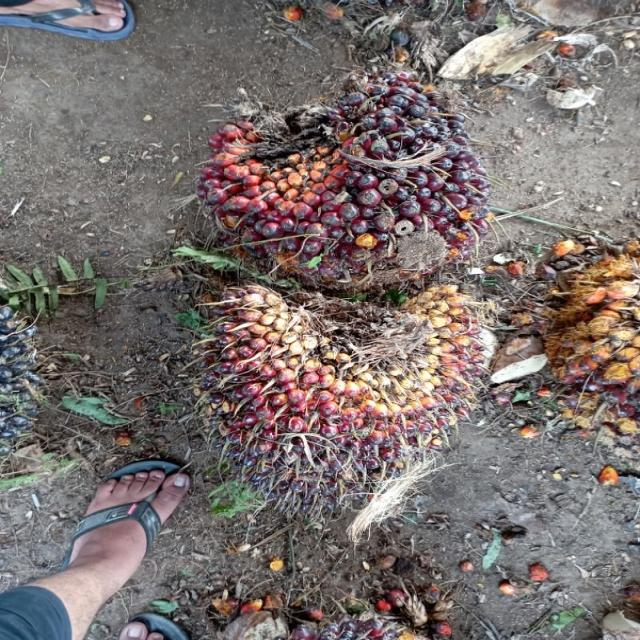fraksi 1: (126, 244, 587, 585)
